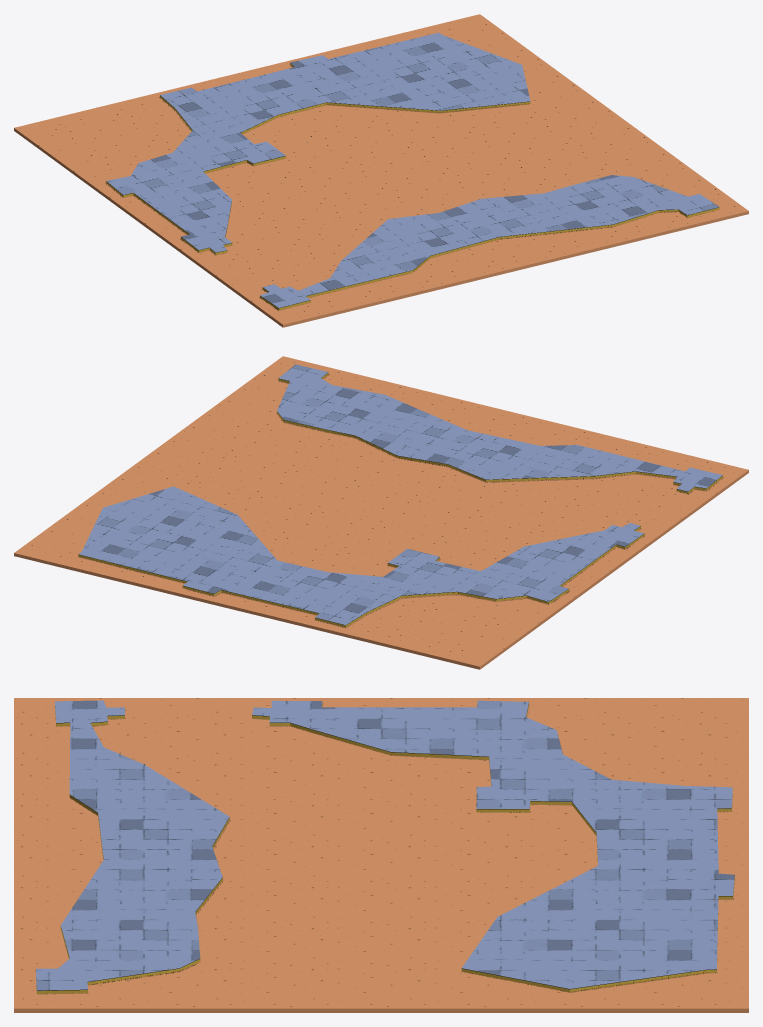
Rendered from pm-floor-sand-small.glb.
3 views of the same model, one above another, from view 1: azimuth 30°, elevation 25°; view 2: azimuth 150°, elevation 25°; view 3: azimuth 270°, elevation 25° (orthographic). The views are drawn at different scales.
Parts seen in each view (by area): view 1: Floor_Sand_Small; view 2: Floor_Sand_Small; view 3: Floor_Sand_Small.
Part boxes in pixels (x1,y1,x2,y2): Floor_Sand_Small: [14, 14, 748, 327]; Floor_Sand_Small: [14, 356, 748, 669]; Floor_Sand_Small: [14, 698, 748, 1012].
Bounding box in the file's own units: 16 × 0.1992 × 16.
Materials: 4 (4 with a texture image).
